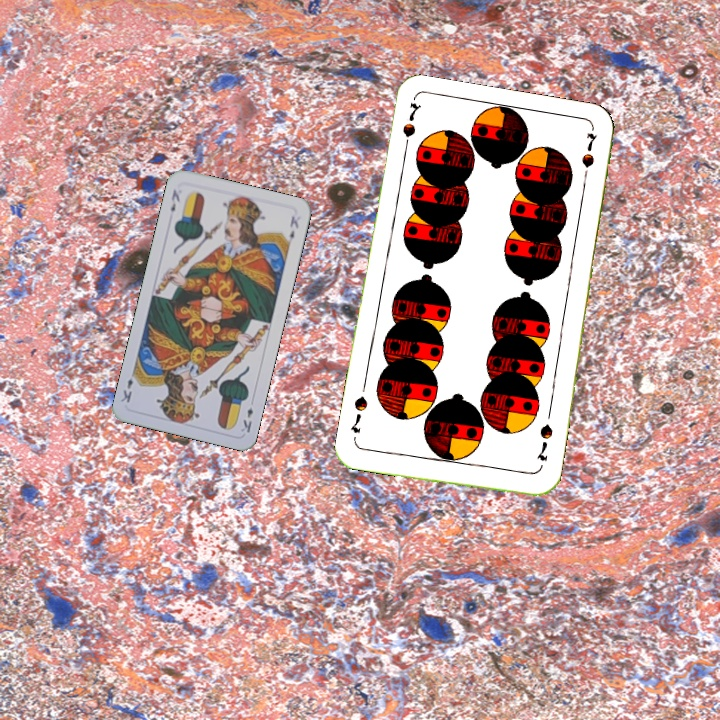EK: (237, 403, 256, 435), (166, 185, 183, 214)
S7: (398, 98, 424, 157), (532, 420, 556, 464)
